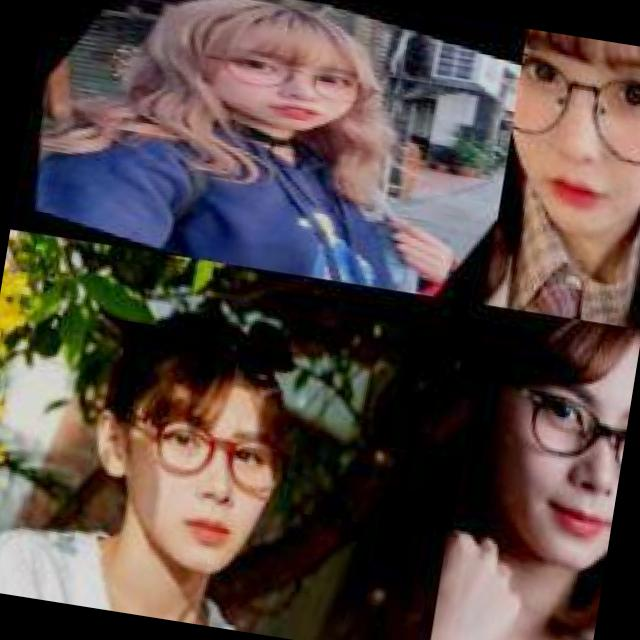glasses: (98, 354, 306, 524), (501, 28, 640, 219), (481, 340, 635, 508), (184, 28, 388, 118)
